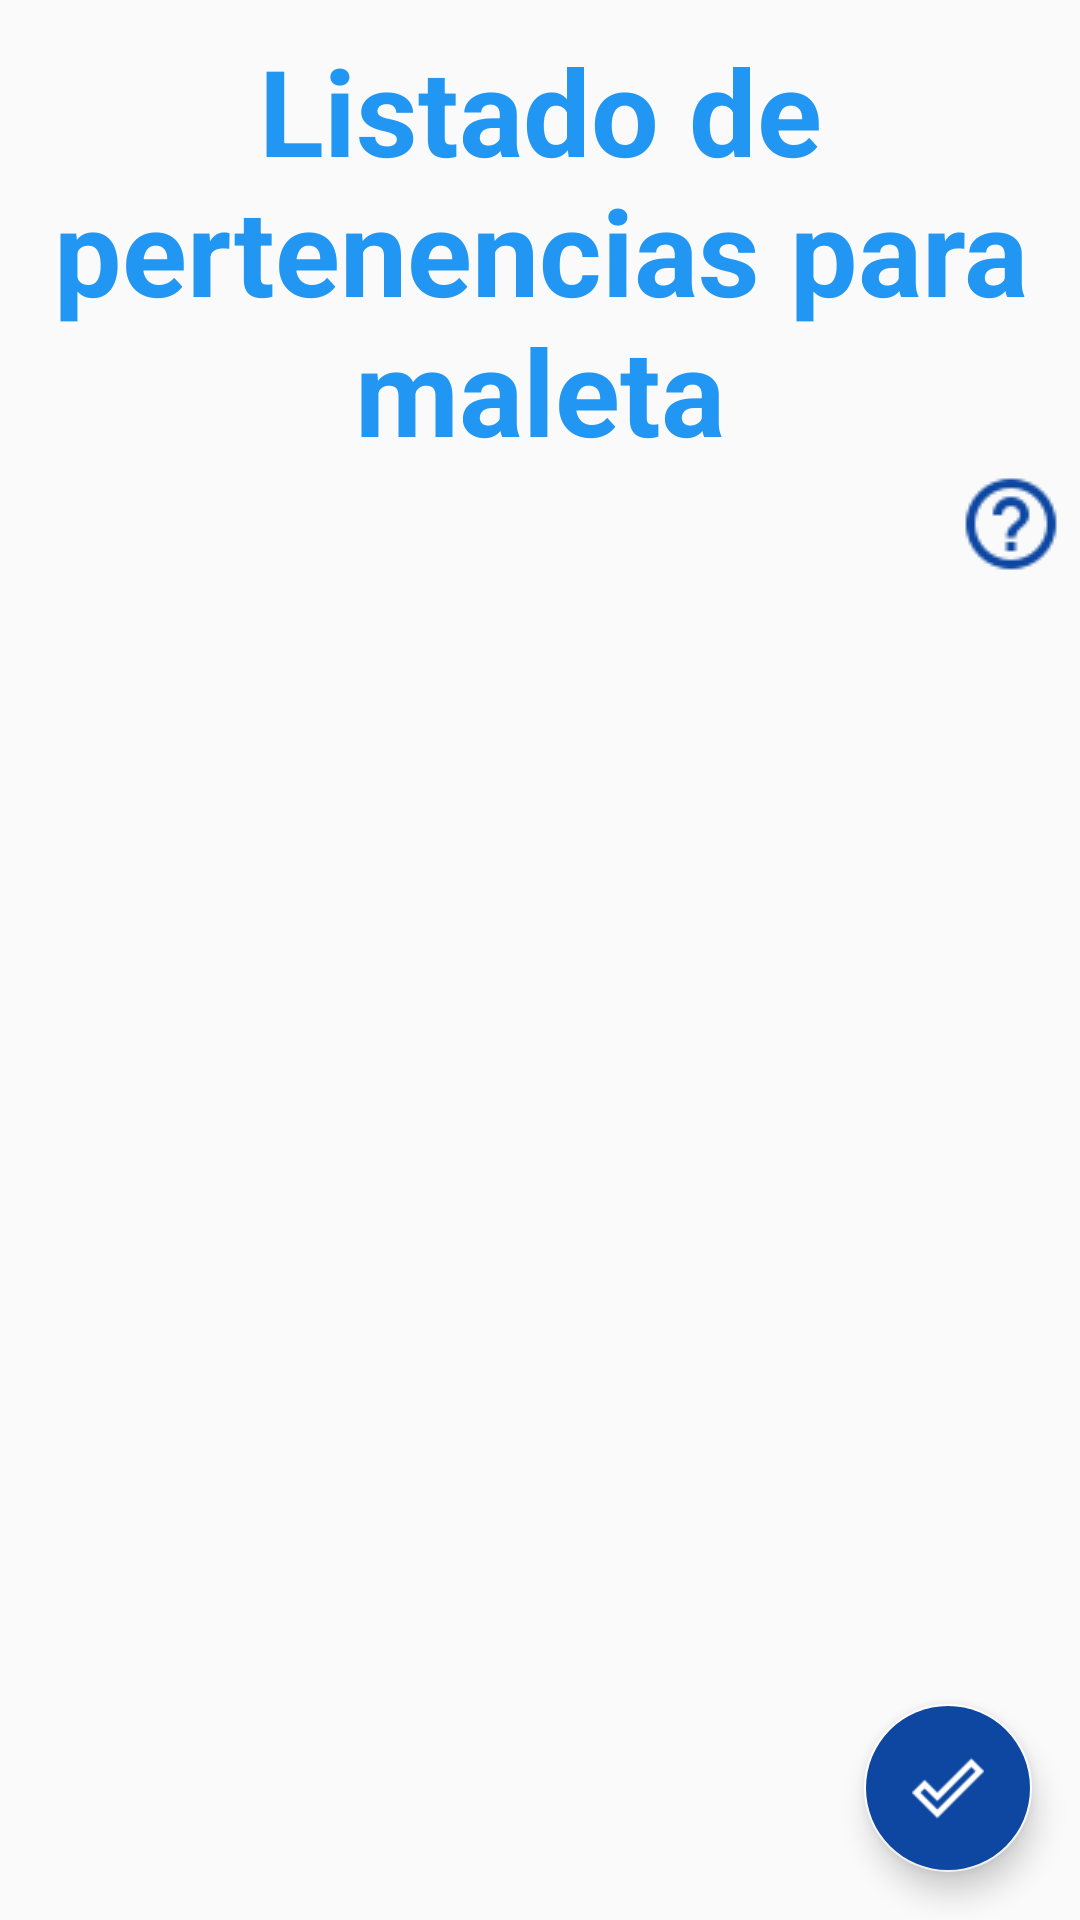

Named icons in this screenshot (1080w x 1920h) and their bounding boxes, (x1, y1, x2, y2):
iconook: (866, 1706, 1030, 1870)
